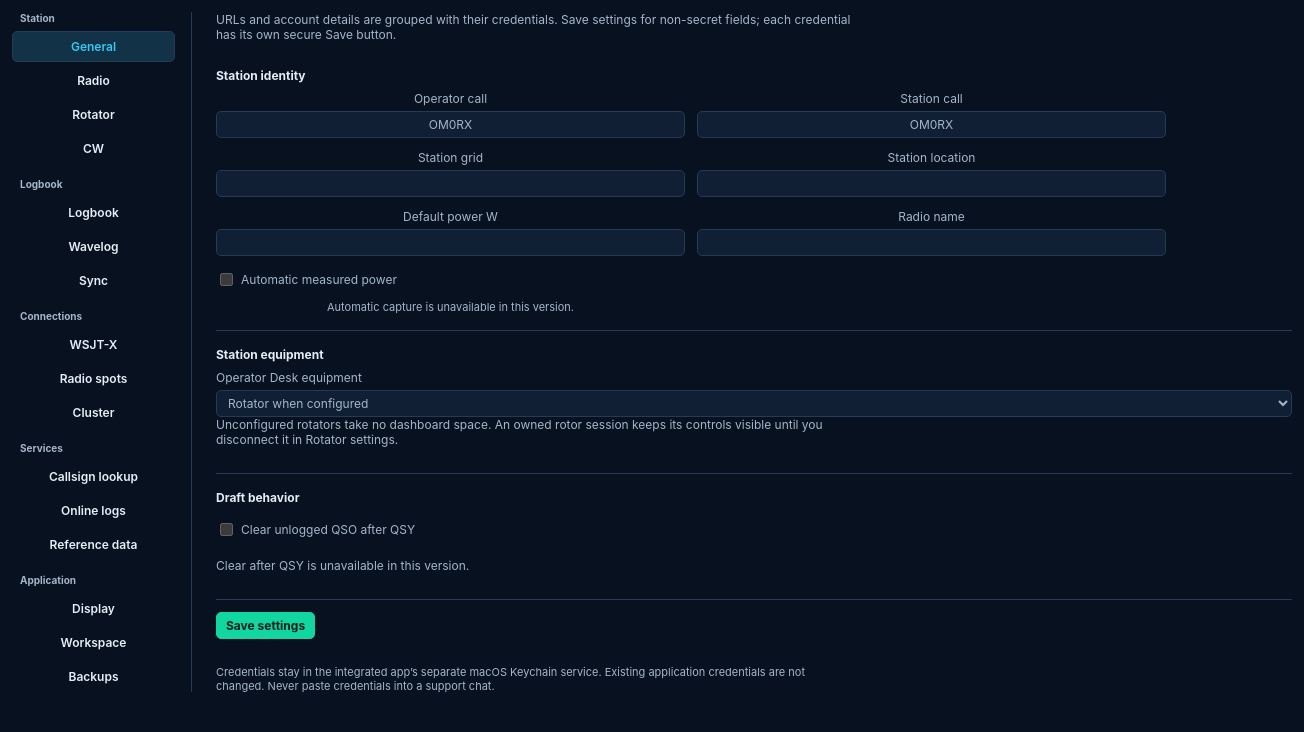
Test: grouped service settings › names and exposes radio output before the Radio spots subsection
Click the tab "Radio spots" at (94, 378), box [12,363,175,394]
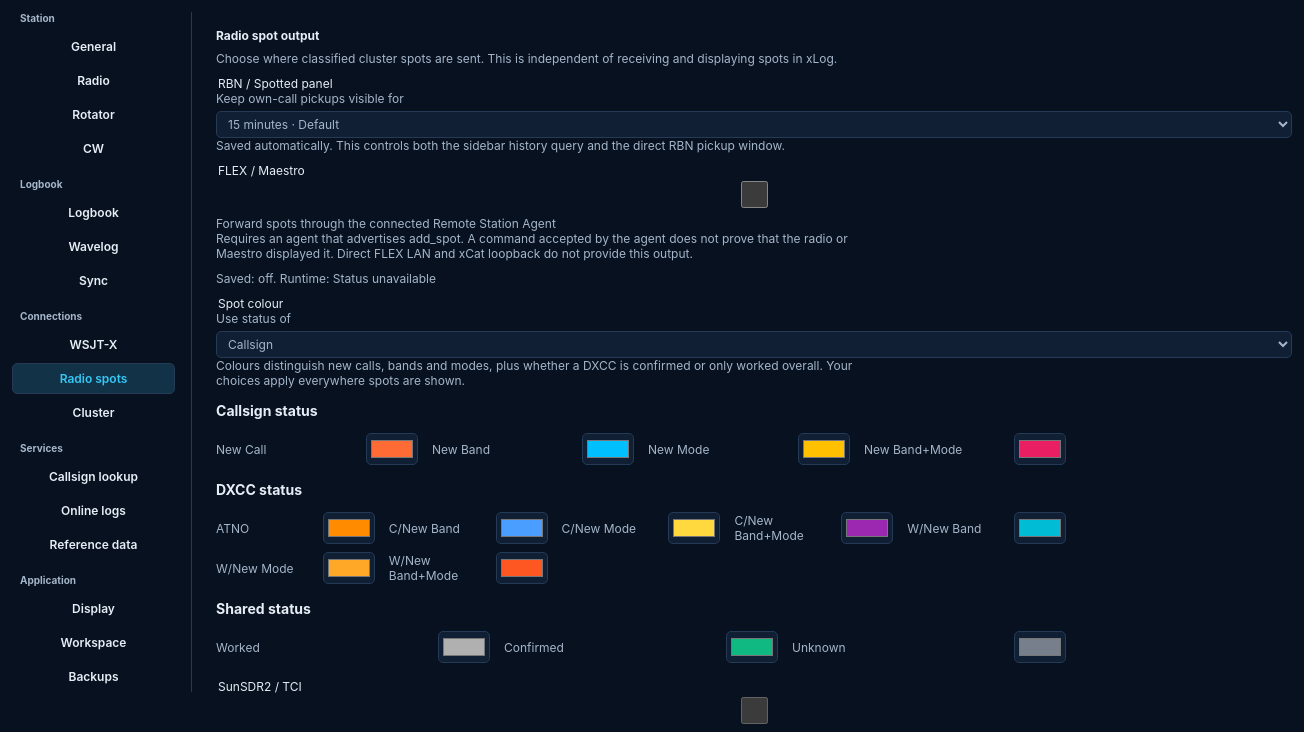
Result: the heading "Radio spot output" is shown at [216,28,319,43]
Result: the dropdown named "RBN and spotted display time" is shown at [216,111,1292,138]
